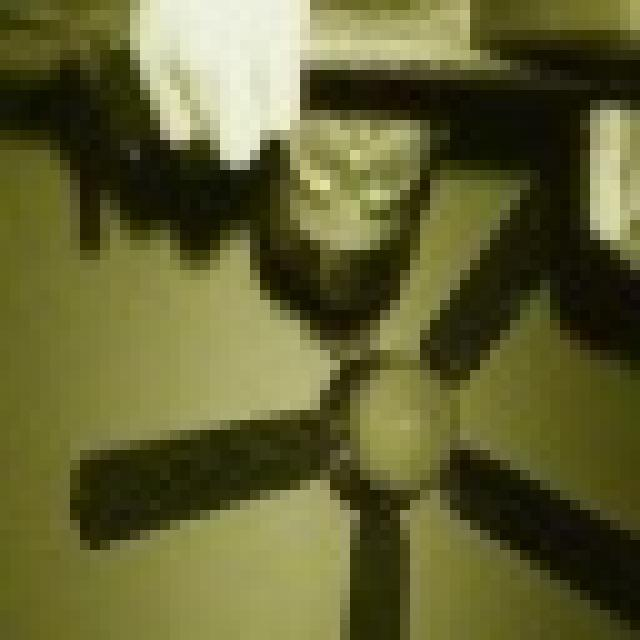Bulb: (84, 244, 640, 640)
